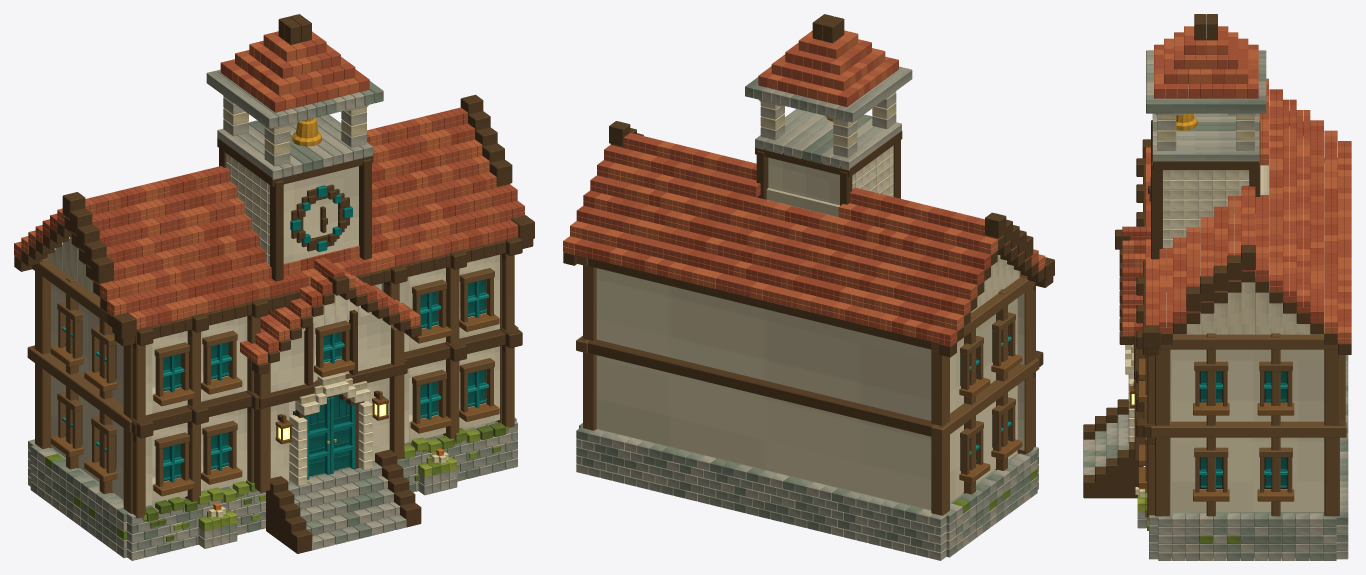
Rendered from SM_HP_CivicHall_LOD1.fbx.
3 renders of one model, left to right at view 1: azimuth 30°, elevation 25°; view 2: azimuth 150°, elevation 25°; view 3: azimuth 270°, elevation 25°, orthographic. The views are drawn at different scales.
Parts seen in each view (by area): view 1: SM_HP_CivicHall_LOD1; view 2: SM_HP_CivicHall_LOD1; view 3: SM_HP_CivicHall_LOD1.
Boxes of the visible parts, x1,y1,x2,y2 form: SM_HP_CivicHall_LOD1: (14,14,534,560); SM_HP_CivicHall_LOD1: (563,14,1054,560); SM_HP_CivicHall_LOD1: (1083,14,1351,560).
Size of the model in its own units: 798 by 468 by 869.
Materials: 1 (1 with a texture image).
